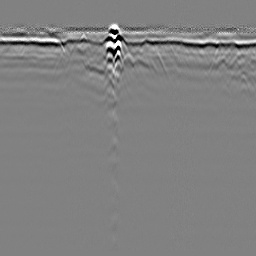cavity: (122, 50, 135, 70)
